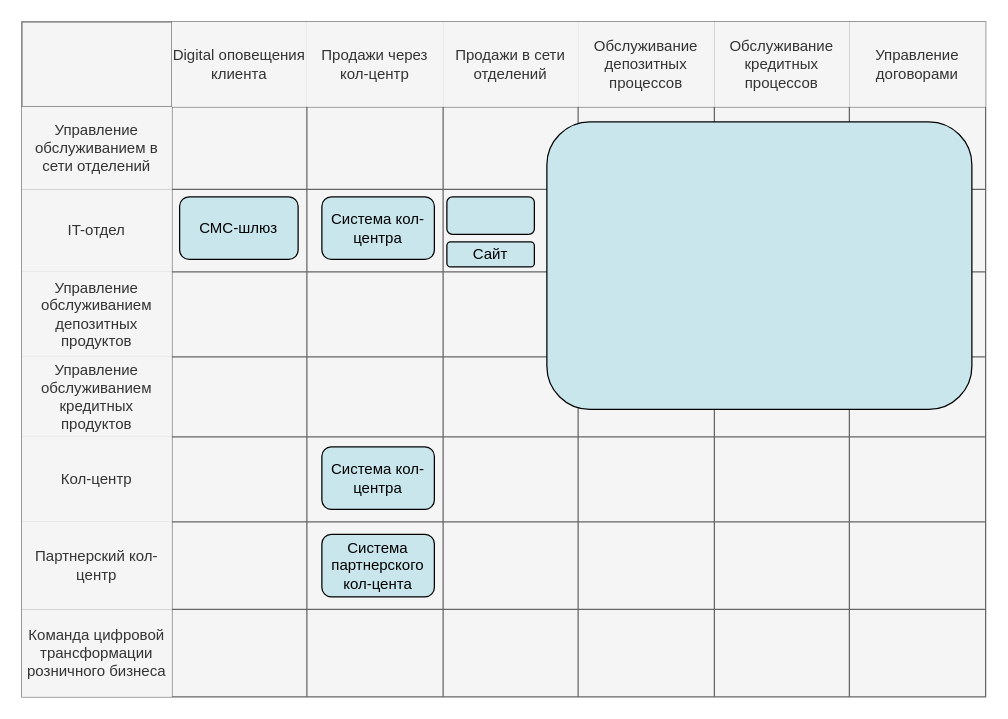
Image size: 1008x719. Some labels were removed from this diagram. Here are the shapes that lost their labels. From the top down, the centre of each, then its label:
At (x=490, y=215): "Интернет-банк".
At (x=759, y=265): "АБС".
